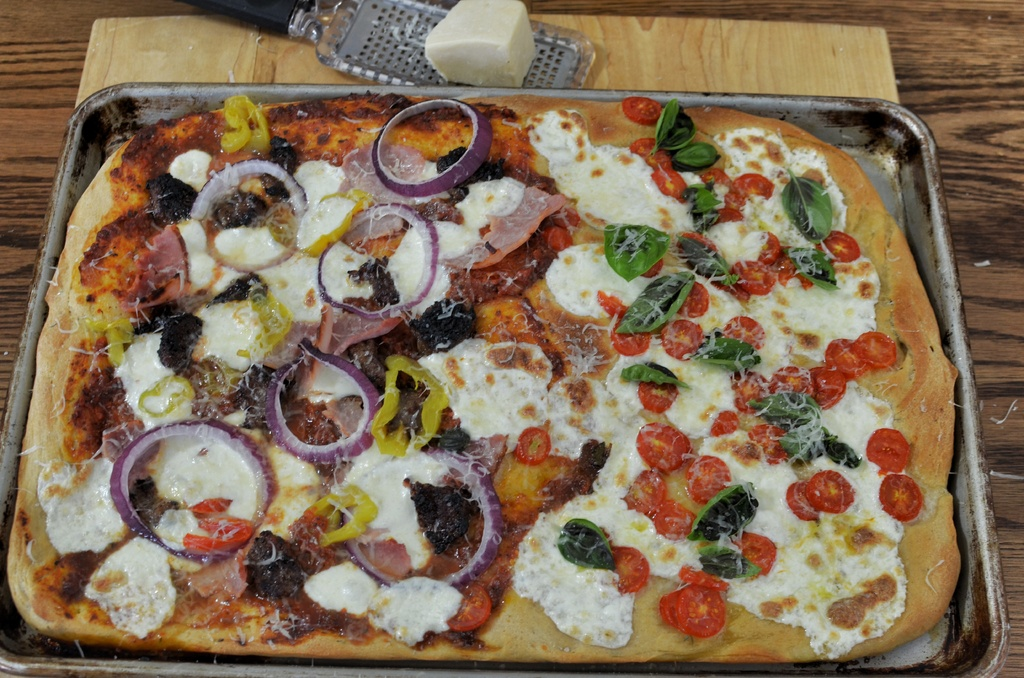Pizza: (3, 92, 935, 678)
